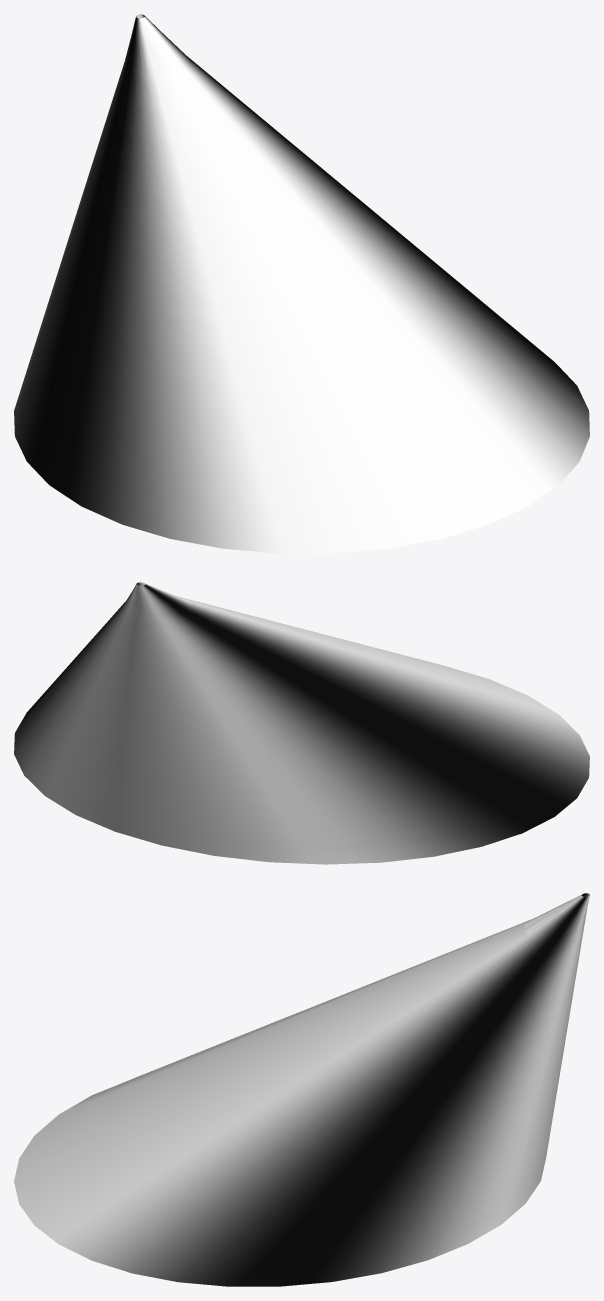
File: coneLight.fbx
3 renders of one model, top to bottom at view 1: azimuth 30°, elevation 25°; view 2: azimuth 150°, elevation 25°; view 3: azimuth 270°, elevation 25°, orthographic. The views are drawn at different scales.
Visible parts, largest first — view 1: Cylinder; view 2: Cylinder; view 3: Cylinder.
Boxes of the visible parts, x1,y1,x2,y2 form: Cylinder: (14,14,589,553); Cylinder: (14,582,589,864); Cylinder: (14,893,589,1286).
Bounding box in the file's own units: 1443 × 824 × 1501.
